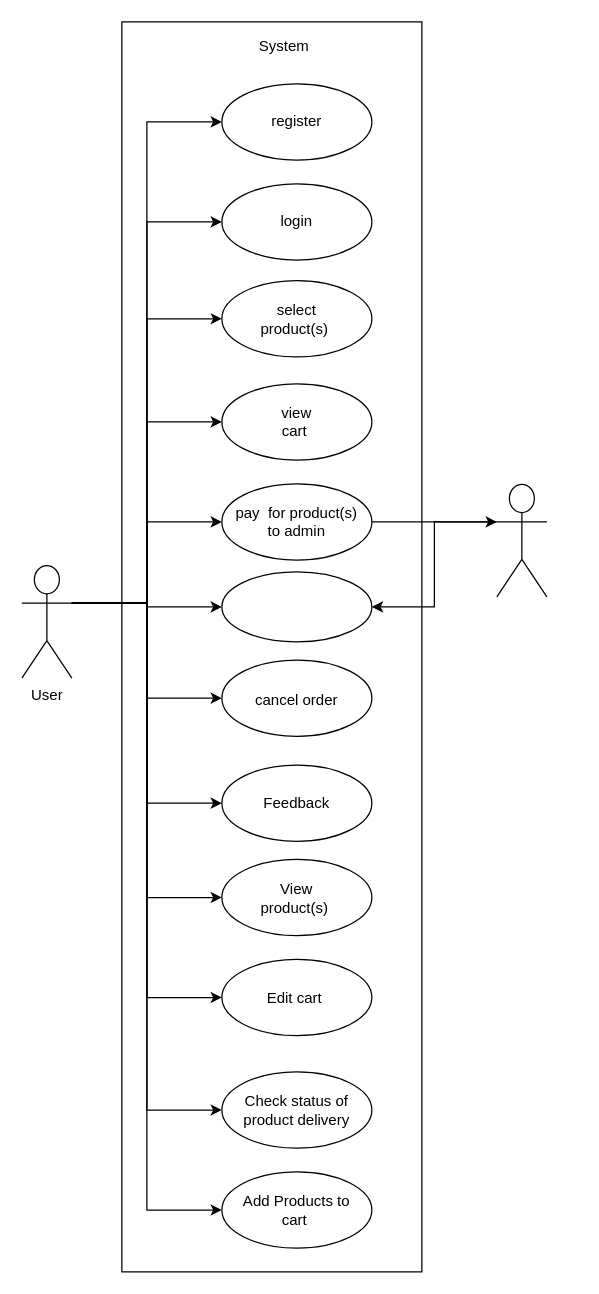
Some shapes in this 599 by 1294 pixel diagram are drawn without their labels. Here are the shapes that lost their labels. From the top down, the box of each, then its label:
(496, 483, 547, 597): Payment service
(221, 571, 372, 642): Recieve Payment from admin (cancelled order )
